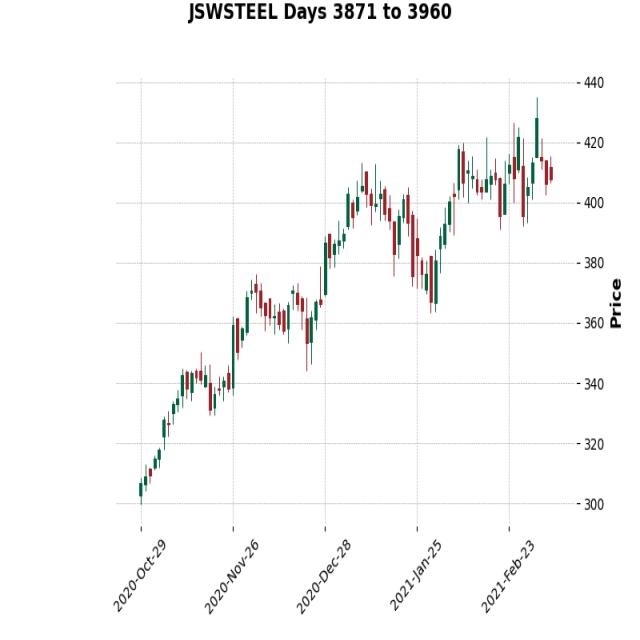Ascending Triangle: (430, 112, 582, 279)
